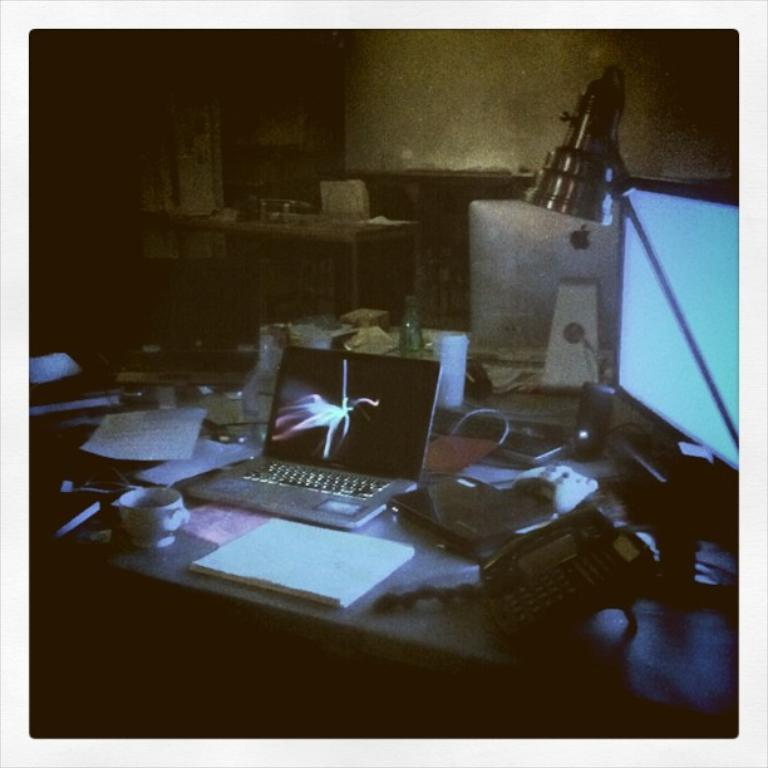Computer-keyboard: (233, 456, 393, 503)
